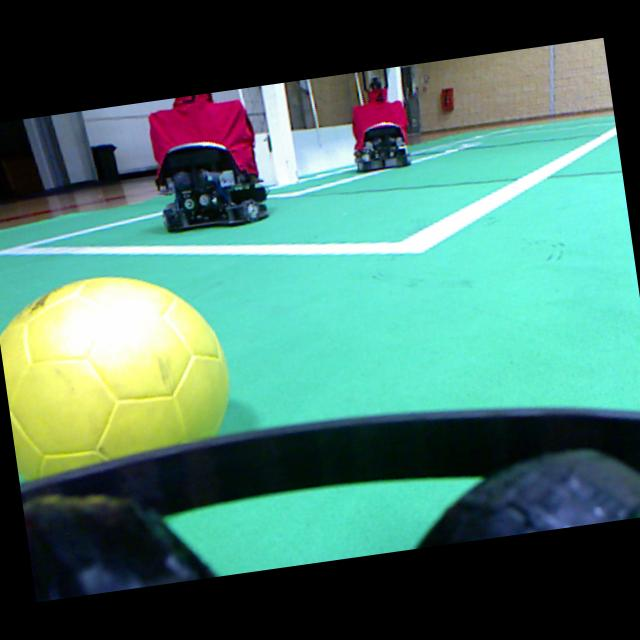ball: (0, 277, 228, 479)
goal: (261, 83, 297, 184)
